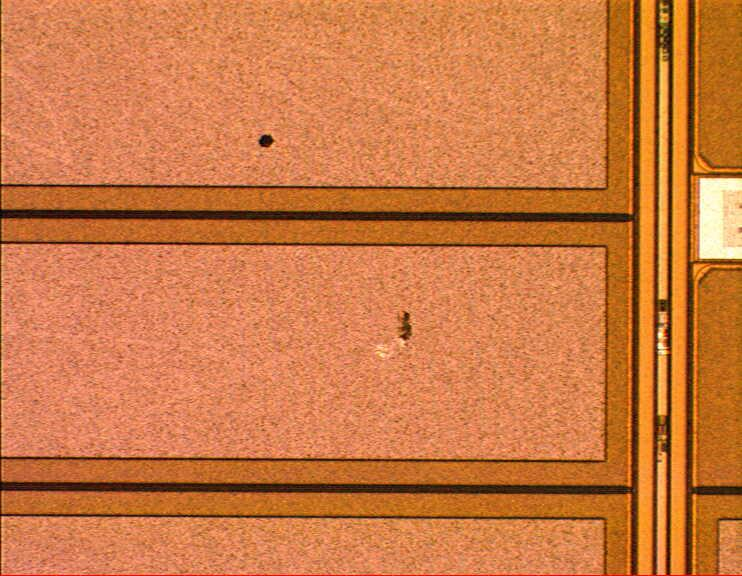SCRATCH: (369, 303, 416, 364)
